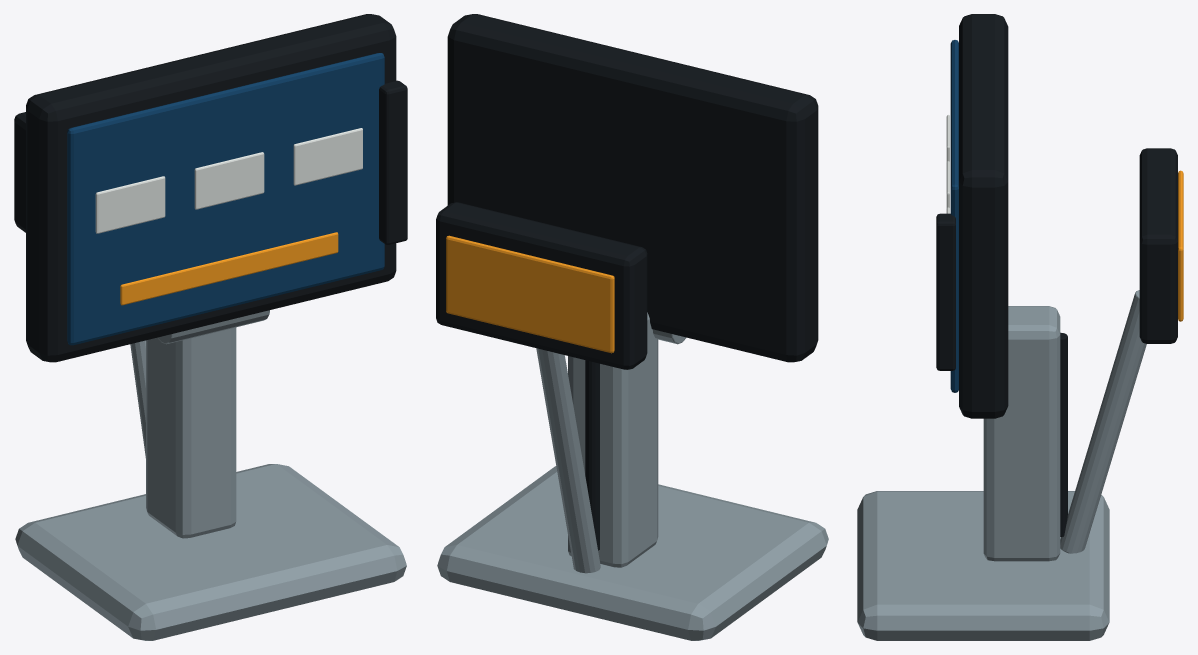
3 renders of one model, left to right at view 1: azimuth 30°, elevation 25°; view 2: azimuth 150°, elevation 25°; view 3: azimuth 270°, elevation 25°, orthographic. The views are drawn at different scales.
Visible parts, largest first — view 1: SCREEN, BASE, DISPLAY_Case, STAND, UI_Total, CARD_SwipeChannel, UI_Tile, UI_Tile.001, UI_Tile.002, CUSTOMER_Display, TILT_Axle, CUSTOMER_Stem; view 2: DISPLAY_Case, BASE, CUSTOMER_Display, CUSTOMER_Total, STAND, CUSTOMER_Stem, CABLE_Stem; view 3: BASE, DISPLAY_Case, STAND, CUSTOMER_Display, CUSTOMER_Stem, CARD_SwipeChannel, SCREEN, CABLE_Stem, CUSTOMER_Total.
Boxes of the visible parts, left/top/right/bottom form: SCREEN: left=67, top=53, right=384, bottom=345; BASE: left=15, top=464, right=406, bottom=640; DISPLAY_Case: left=26, top=14, right=396, bottom=362; STAND: left=146, top=327, right=236, bottom=538; UI_Total: left=120, top=232, right=338, bottom=305; CARD_SwipeChannel: left=379, top=80, right=407, bottom=244; UI_Tile: left=95, top=176, right=165, bottom=233; UI_Tile.001: left=194, top=152, right=264, bottom=209; UI_Tile.002: left=293, top=128, right=362, bottom=185; CUSTOMER_Display: left=14, top=112, right=25, bottom=232; TILT_Axle: left=158, top=310, right=269, bottom=344; CUSTOMER_Stem: left=130, top=340, right=145, bottom=457; DISPLAY_Case: left=447, top=14, right=818, bottom=362; BASE: left=437, top=466, right=828, bottom=640; CUSTOMER_Display: left=436, top=202, right=647, bottom=369; CUSTOMER_Total: left=446, top=235, right=614, bottom=353; STAND: left=568, top=312, right=658, bottom=567; CUSTOMER_Stem: left=536, top=348, right=600, bottom=573; CABLE_Stem: left=585, top=360, right=599, bottom=550; BASE: left=857, top=491, right=1109, bottom=640; DISPLAY_Case: left=959, top=14, right=1008, bottom=418; STAND: left=983, top=306, right=1060, bottom=561; CUSTOMER_Display: left=1139, top=148, right=1177, bottom=343; CUSTOMER_Stem: left=1060, top=290, right=1146, bottom=553; CARD_SwipeChannel: left=936, top=213, right=955, bottom=370; SCREEN: left=950, top=40, right=958, bottom=392; CABLE_Stem: left=1060, top=332, right=1067, bottom=536; CUSTOMER_Total: left=1178, top=170, right=1183, bottom=321.
Size of the model in its own units: 0.36 by 0.495 by 0.2975.
